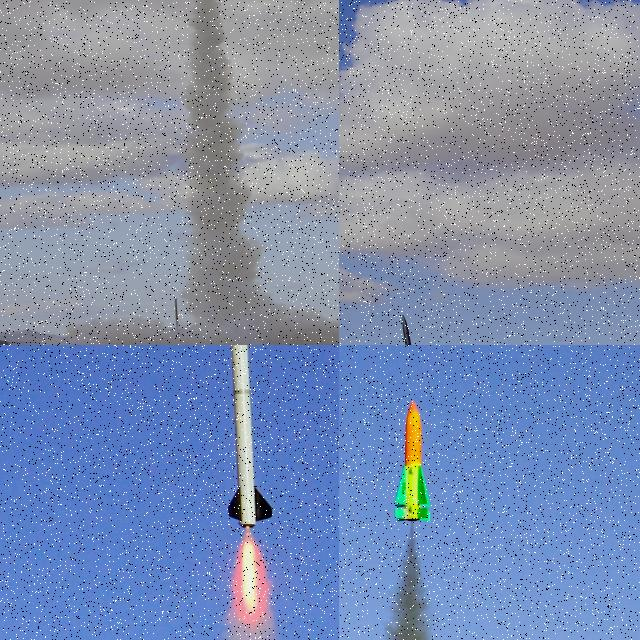Rocket: (226, 345, 275, 529), (394, 401, 433, 523), (401, 314, 432, 345)
